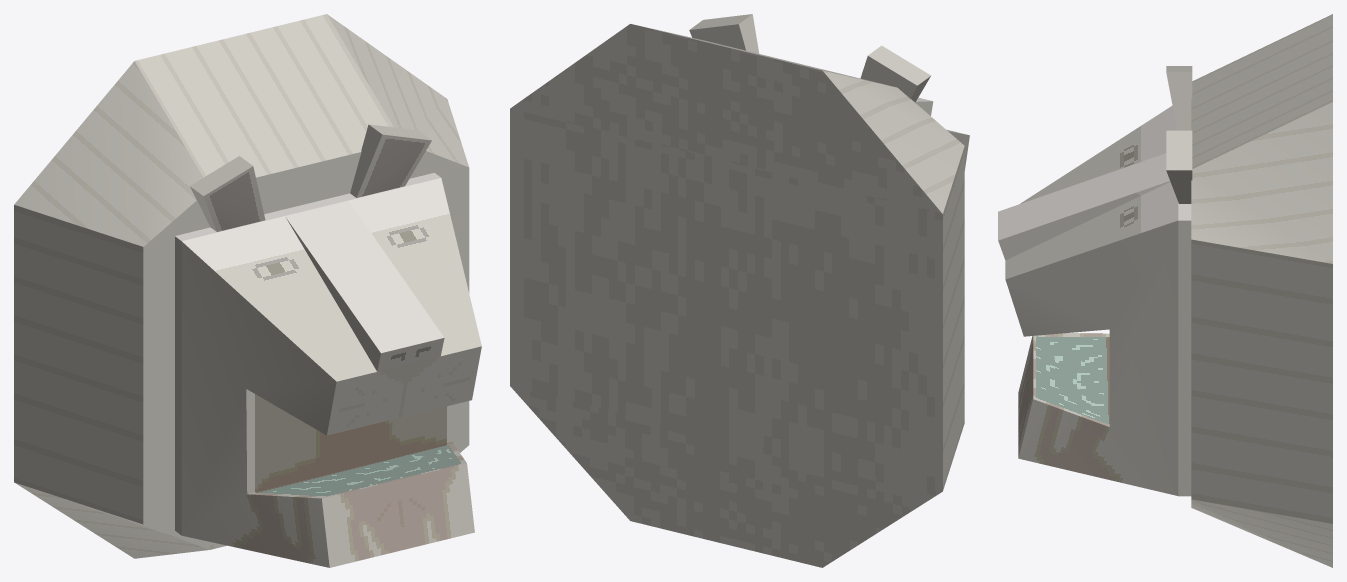
The model's file is 01c2_Lion_Fountain.glb.
3 renders of one model, left to right at view 1: azimuth 30°, elevation 25°; view 2: azimuth 150°, elevation 25°; view 3: azimuth 270°, elevation 25°, orthographic. The views are drawn at different scales.
Visible parts, largest first — view 1: part_0; view 2: part_0; view 3: part_0.
Part boxes in pixels (bbox=[...]): part_0: bbox=[14, 14, 481, 567]; part_0: bbox=[510, 14, 969, 567]; part_0: bbox=[998, 14, 1332, 567].
Size of the model in its own units: 4.15 by 4.56 by 2.97.
1 material, 1 textured.
